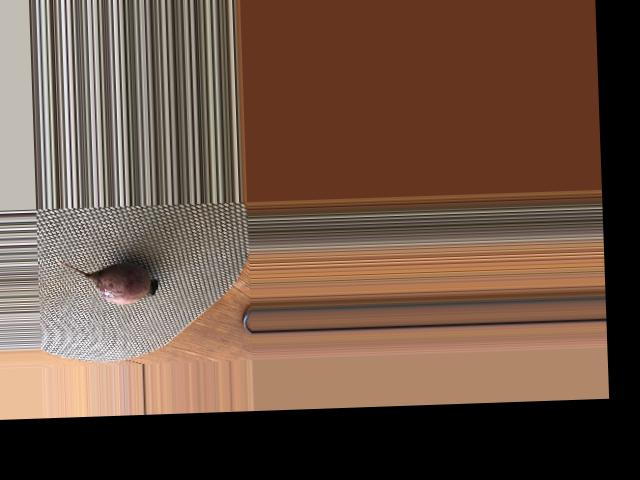beet: (55, 252, 159, 306)
